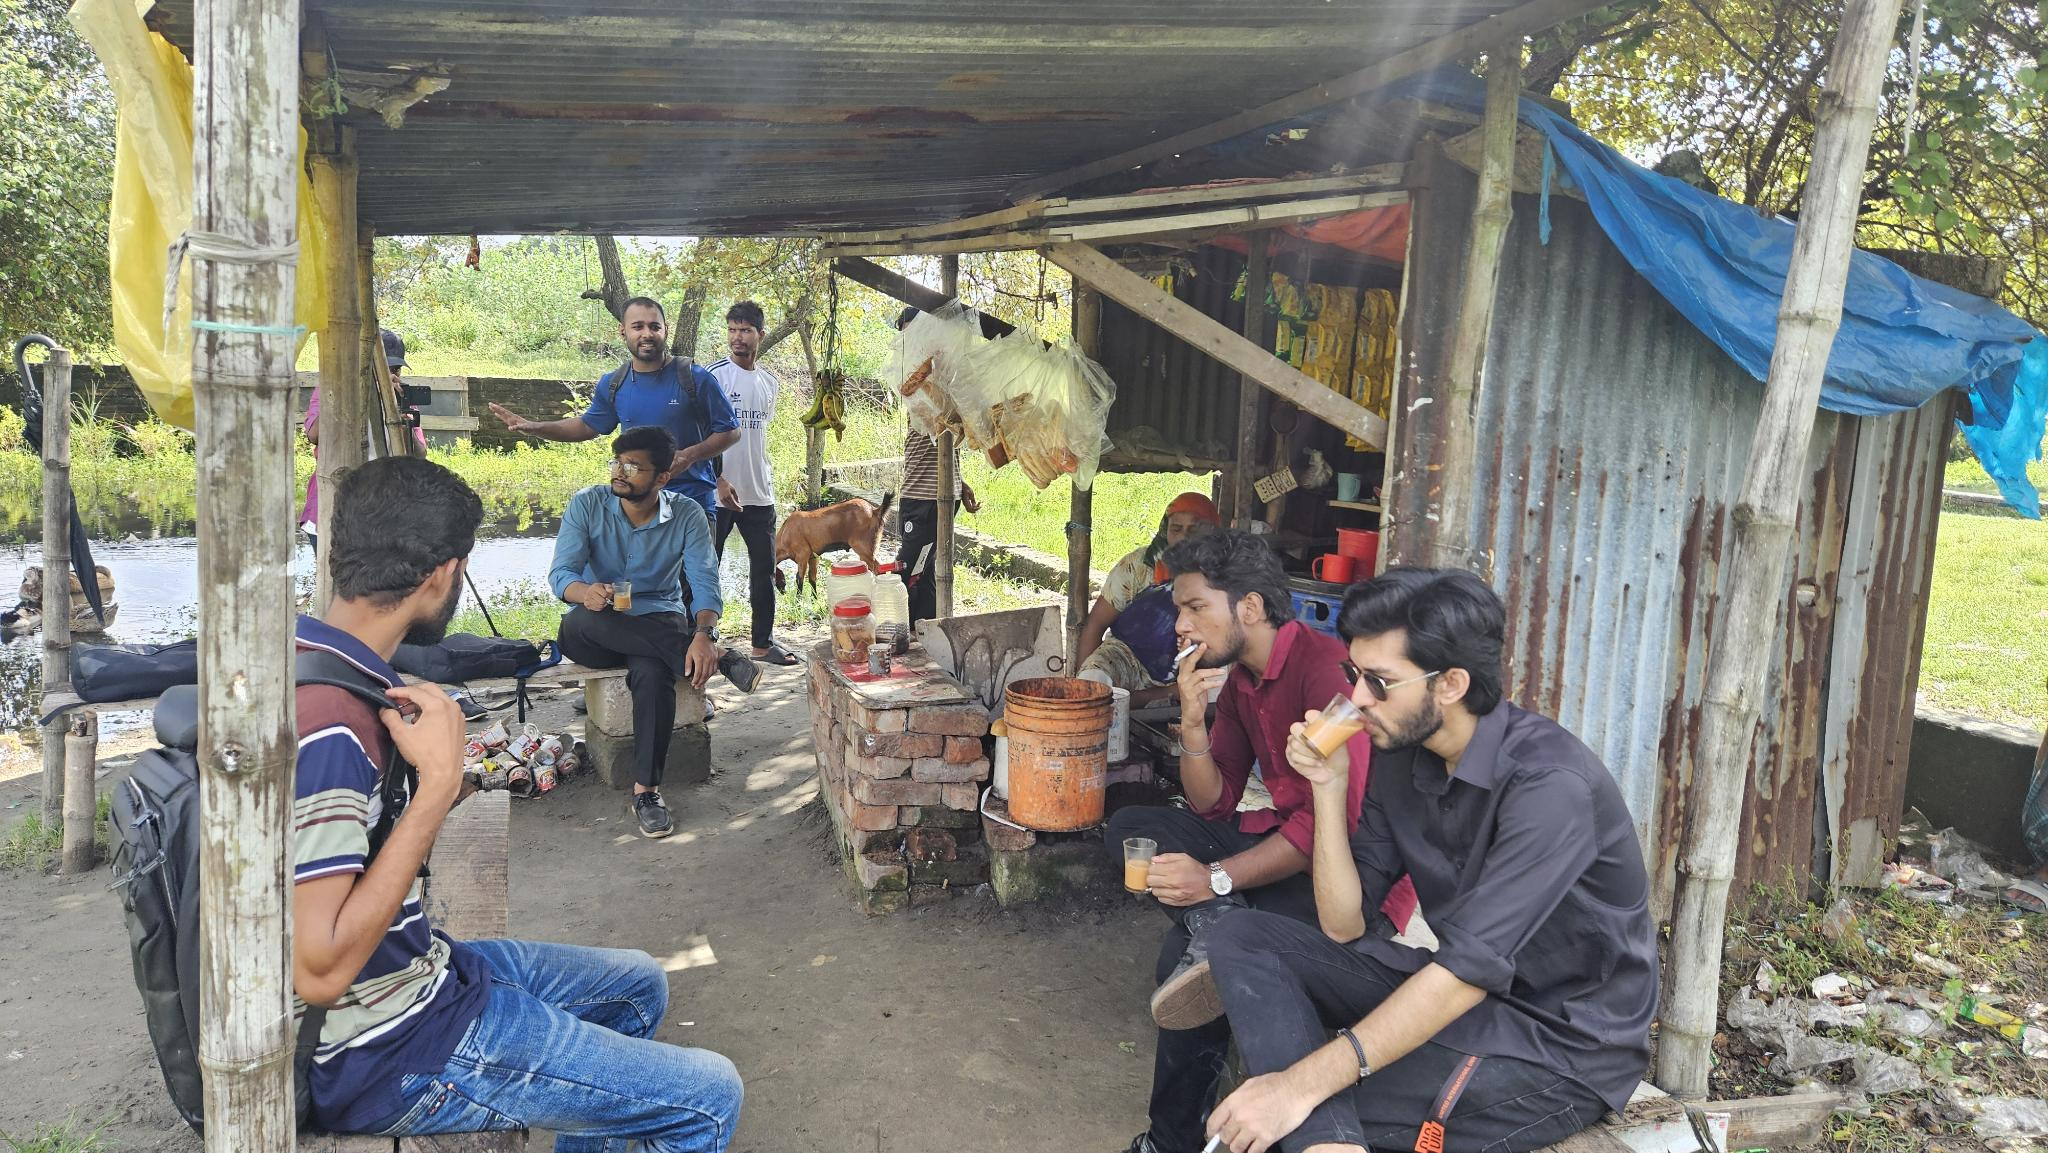cigarette: (1197, 1129, 1225, 1153), (1172, 643, 1200, 664)
nonSmoker: (291, 456, 745, 1153), (549, 425, 762, 838), (488, 297, 743, 547), (708, 301, 800, 665)
smoker: (1189, 567, 1658, 1153), (1104, 533, 1349, 1153)
